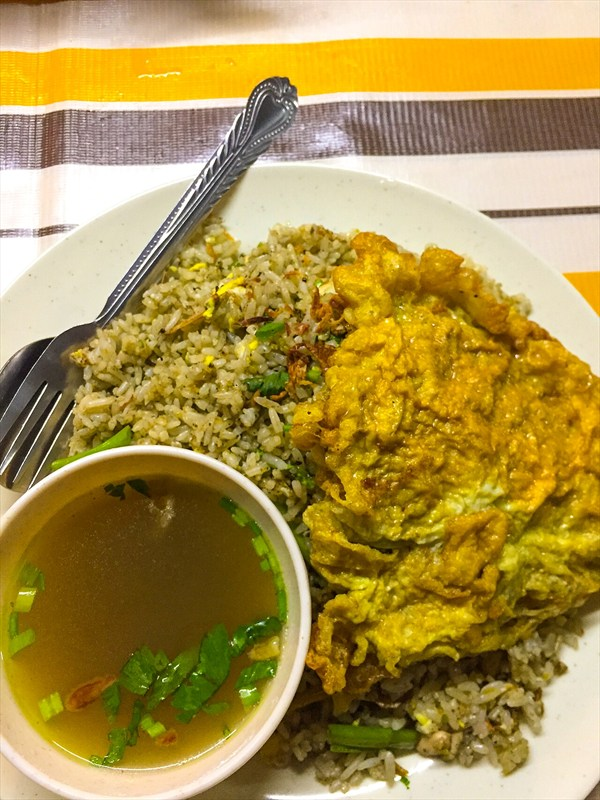Nasi Goreng: (95, 239, 554, 695)
